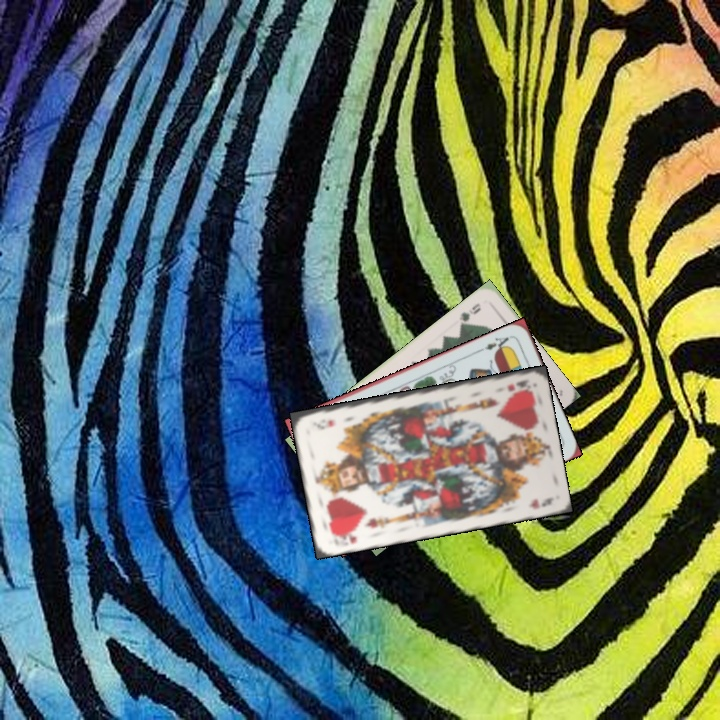EA: (476, 331, 514, 355)
G9: (455, 299, 483, 330)
HK: (328, 526, 360, 546), (503, 375, 532, 394)
